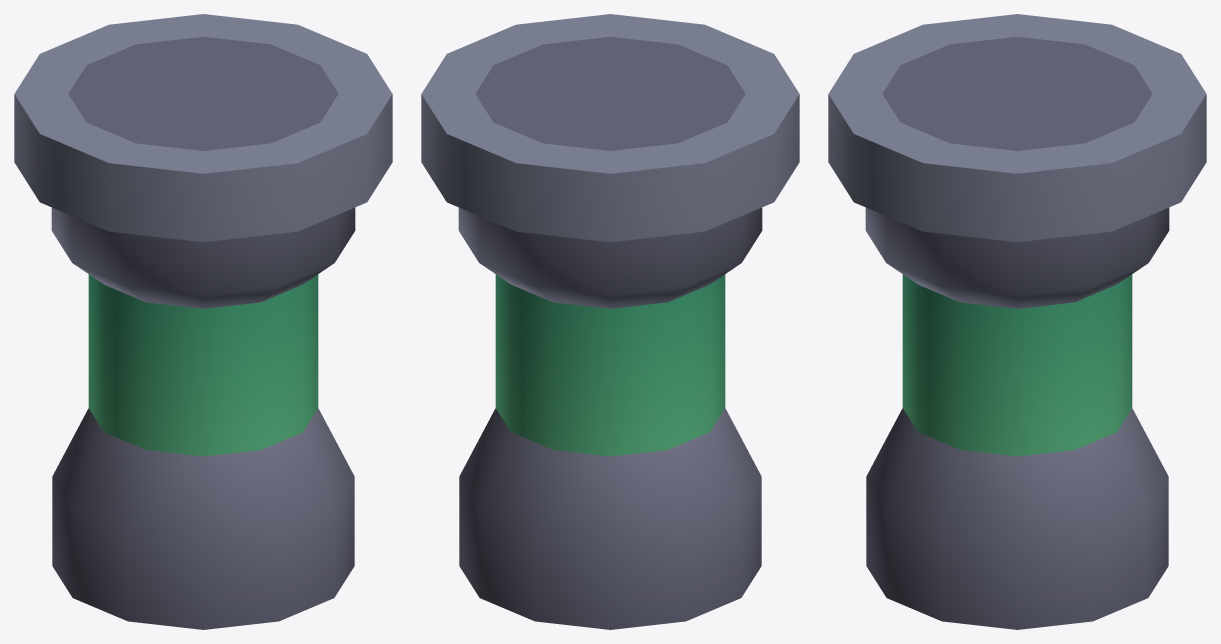
File: column.obj
The picture shows the model from 3 angles, left to right: view 1: azimuth 30°, elevation 25°; view 2: azimuth 150°, elevation 25°; view 3: azimuth 270°, elevation 25°; orthographic projection.
Visible parts, largest first — view 1: column; view 2: column; view 3: column.
Part boxes in pixels (<box>): column: <box>14,14,392,629</box>; column: <box>421,14,799,629</box>; column: <box>828,14,1206,629</box>.
Bounding box in the file's own units: 0.7258 × 1 × 0.7258.
Materials: 1 (1 with a texture image).
